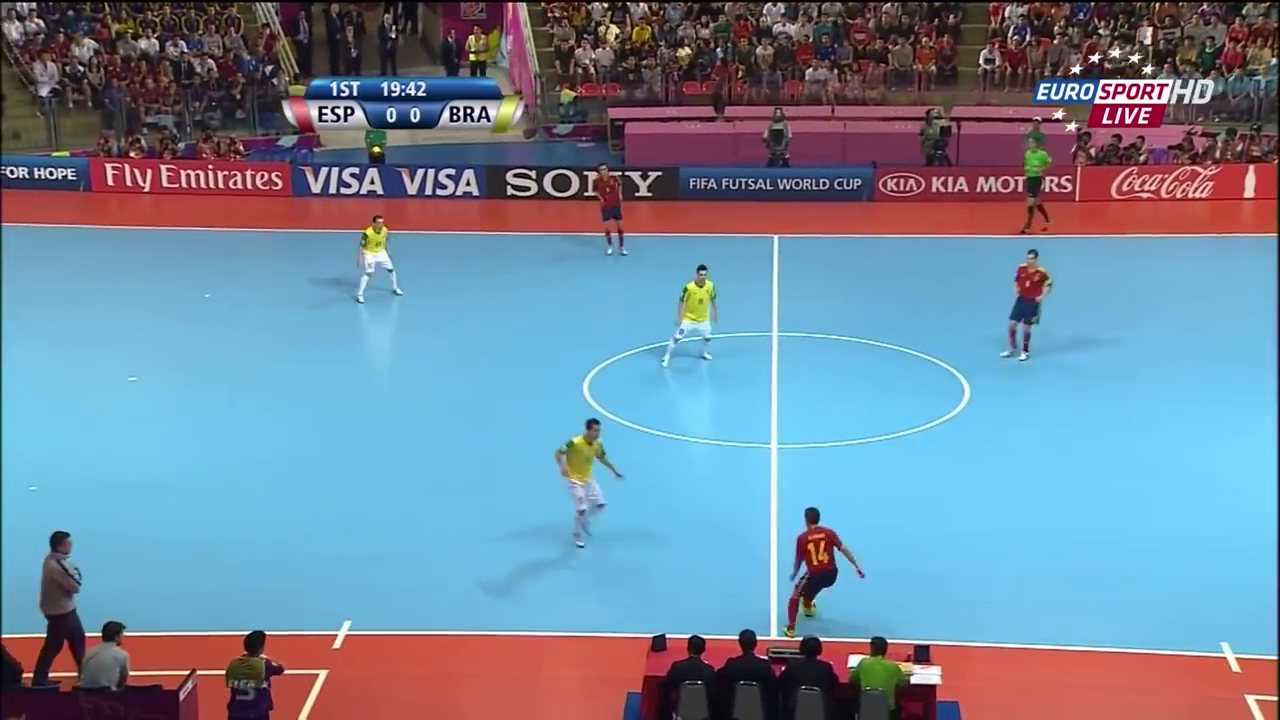person: (777, 507, 867, 637), (550, 414, 624, 553), (657, 258, 719, 367), (1002, 249, 1055, 372), (348, 213, 402, 304), (582, 165, 634, 256)
